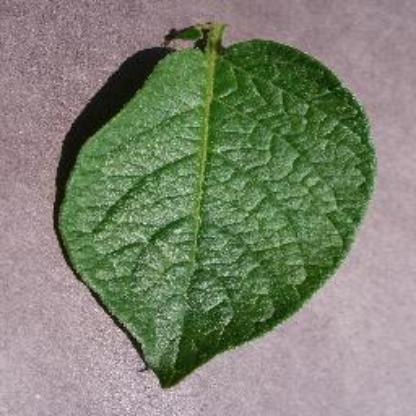Healthy-plant: (51, 22, 380, 388)
